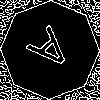A: (25, 25, 81, 81)
